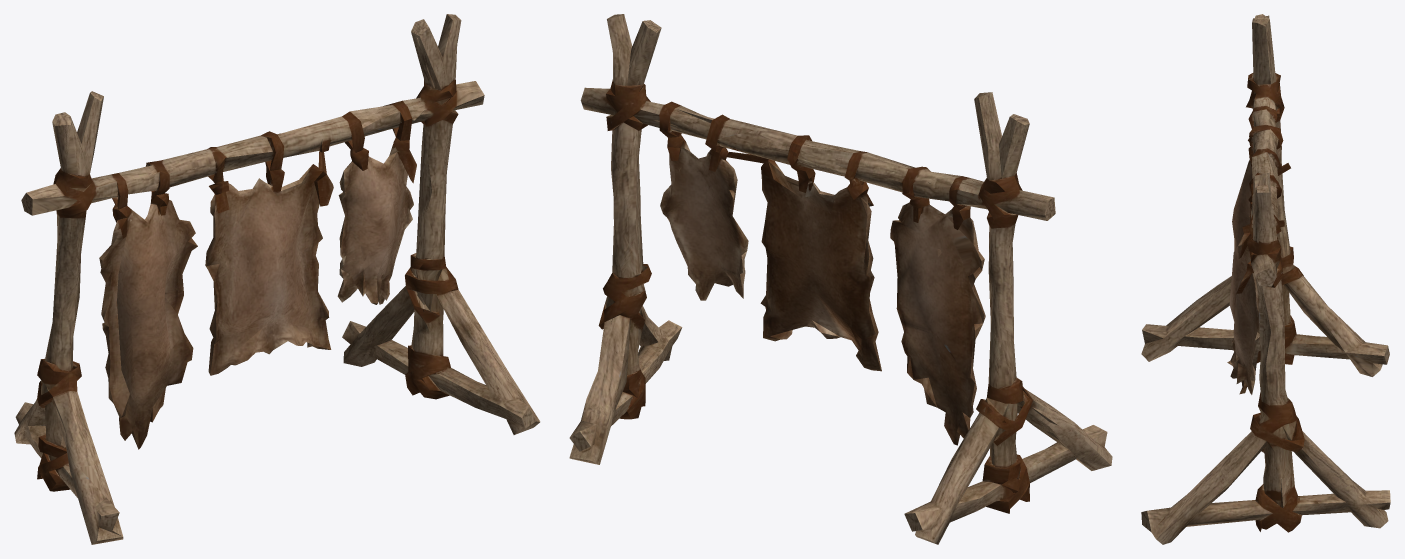
The picture shows the model from 3 angles, left to right: view 1: azimuth 30°, elevation 25°; view 2: azimuth 150°, elevation 25°; view 3: azimuth 270°, elevation 25°; orthographic projection. The views are drawn at different scales.
Parts seen in each view (by area): view 1: drying-rack.001; view 2: drying-rack.001; view 3: drying-rack.001.
Boxes of the visible parts, left/top/right/bottom form: drying-rack.001: left=14, top=14, right=540, bottom=544; drying-rack.001: left=569, top=14, right=1112, bottom=544; drying-rack.001: left=1141, top=14, right=1390, bottom=544.
Bounding box in the file's own units: 2.89 × 2.4 × 1.5.
1 material, 1 textured.
